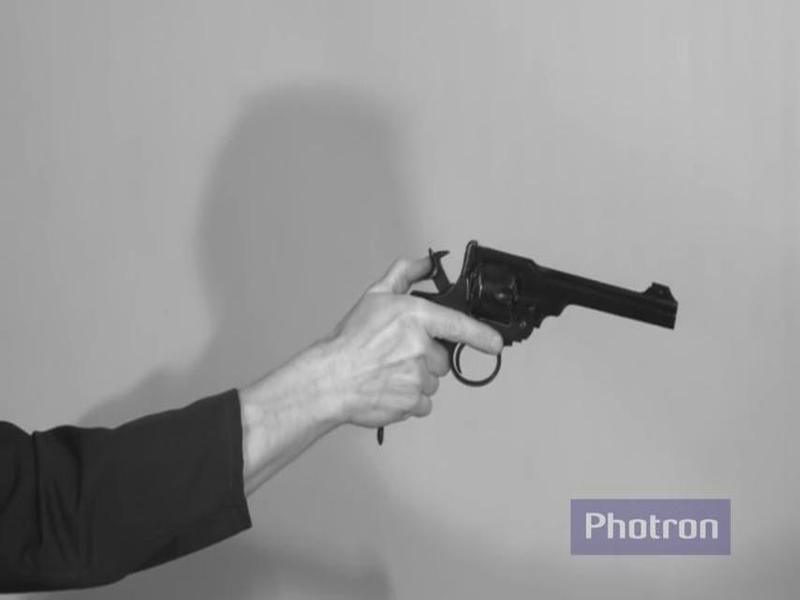Revolver: (348, 218, 734, 464)
